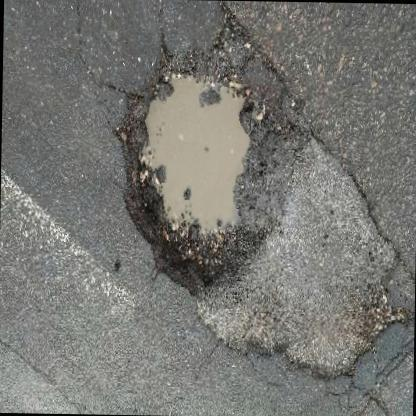pothole: (188, 127, 416, 380), (106, 31, 294, 294)
